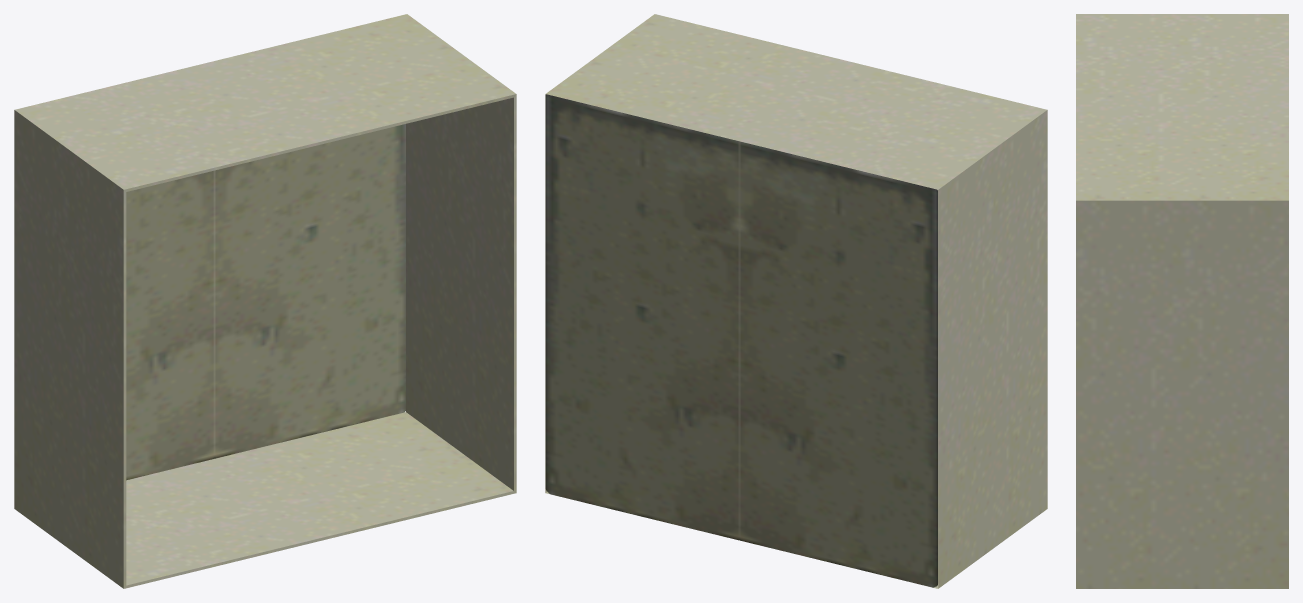
Rendered from file_cabinet_largest_open.fbx.
The picture shows the model from 3 angles, left to right: view 1: azimuth 30°, elevation 25°; view 2: azimuth 150°, elevation 25°; view 3: azimuth 270°, elevation 25°; orthographic projection. The views are drawn at different scales.
Visible parts, largest first — view 1: file_cabinet_largest_open; view 2: file_cabinet_largest_open; view 3: file_cabinet_largest_open.
Boxes of the visible parts, bbox=[...] form: file_cabinet_largest_open: bbox=[14, 14, 516, 588]; file_cabinet_largest_open: bbox=[545, 14, 1047, 588]; file_cabinet_largest_open: bbox=[1076, 14, 1288, 588].
Size of the model in its own units: 145 by 141 by 69.94.
Materials: 1 (1 with a texture image).
